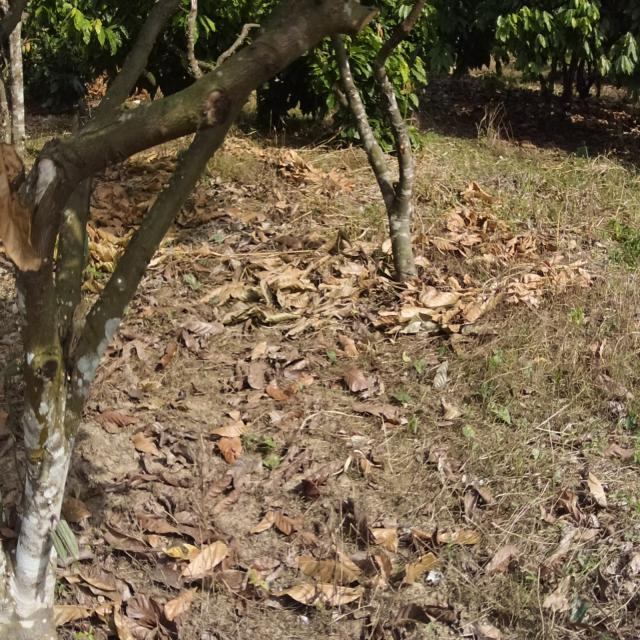Immature: (38, 513, 87, 574)
